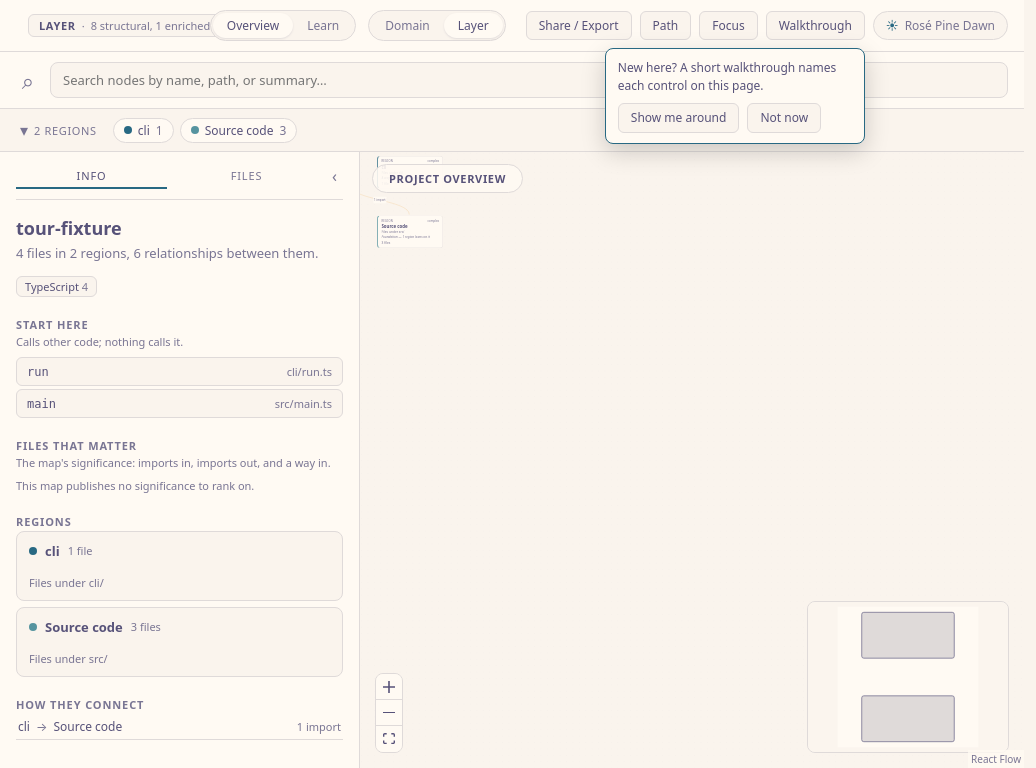
it: the codebase tour › walks only steps it can point at on the canvas
Click the radio button labelled "Learn" at (323,26), box 293,13 -> 353,38
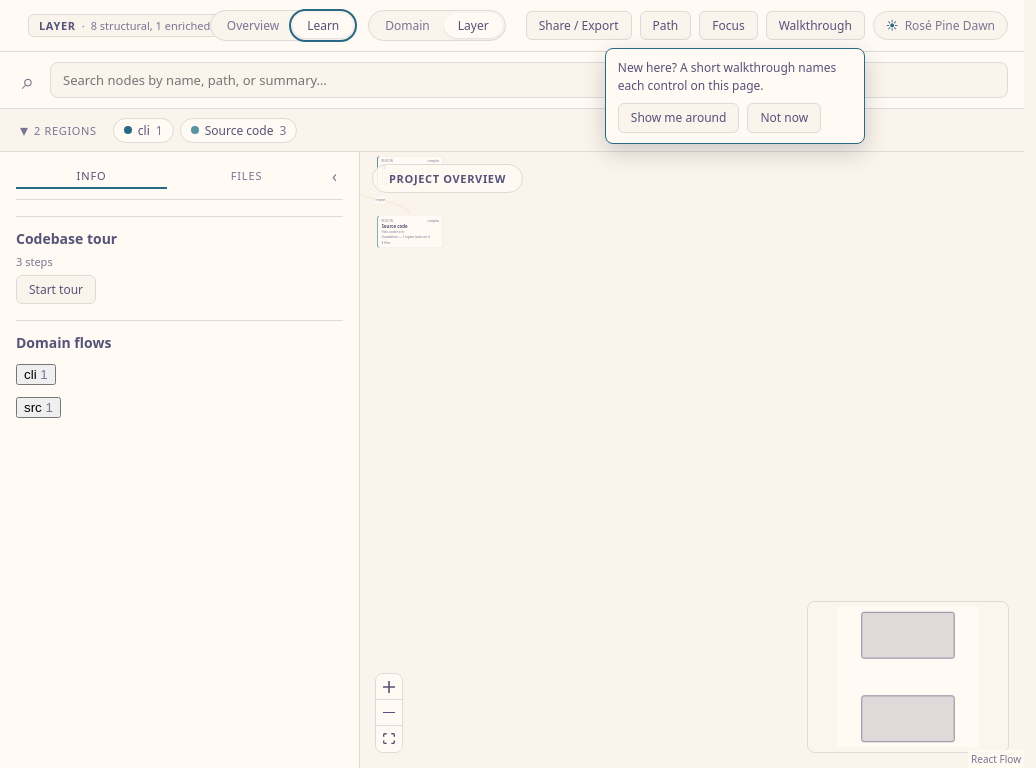
Click the button "Start tour" at (56,290), box 16,275 -> 96,304
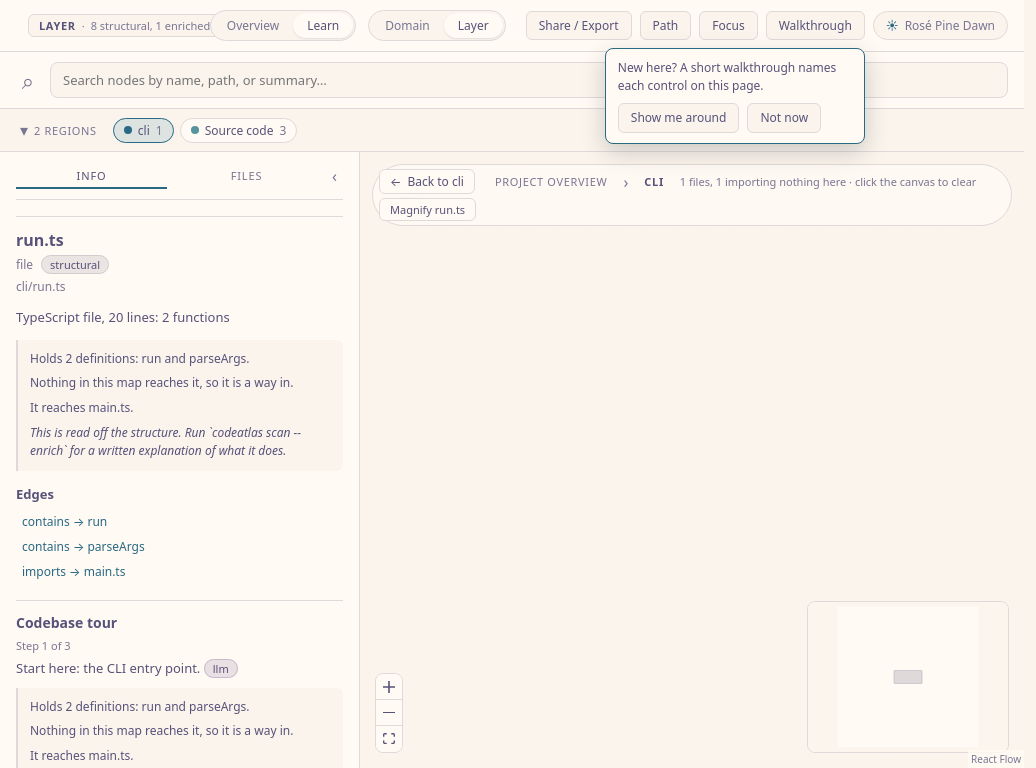
Result: the text "Step 1 of 3" is shown at 16,638 -> 71,653
